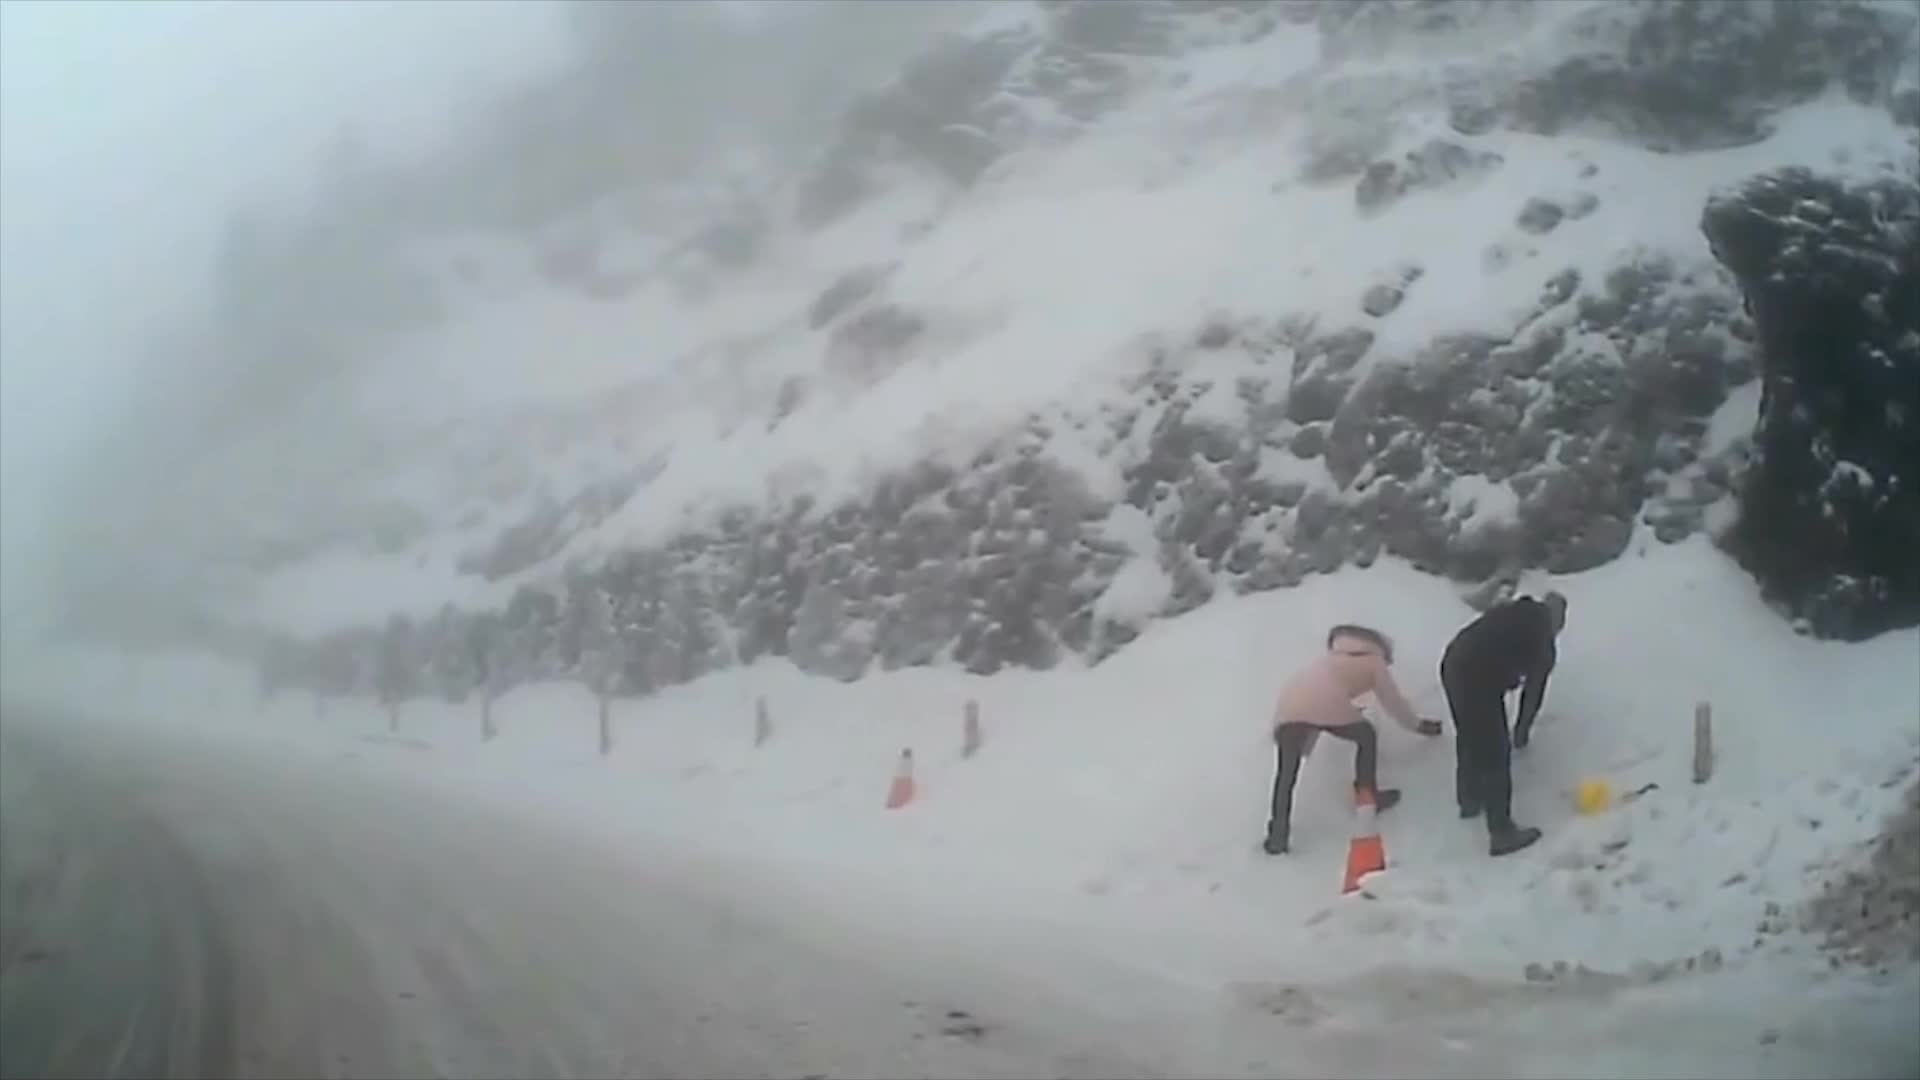pedestrian: (1264, 626, 1443, 860), (1440, 591, 1571, 855)
